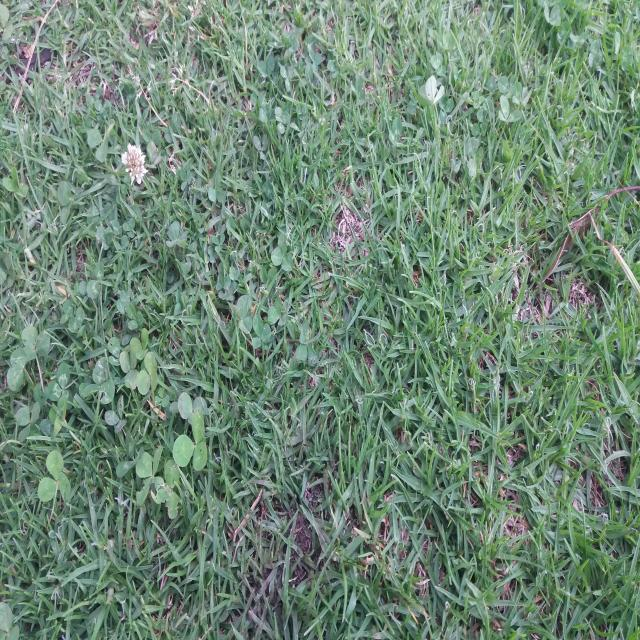Four Leaf Clover: (136, 446, 165, 506)
